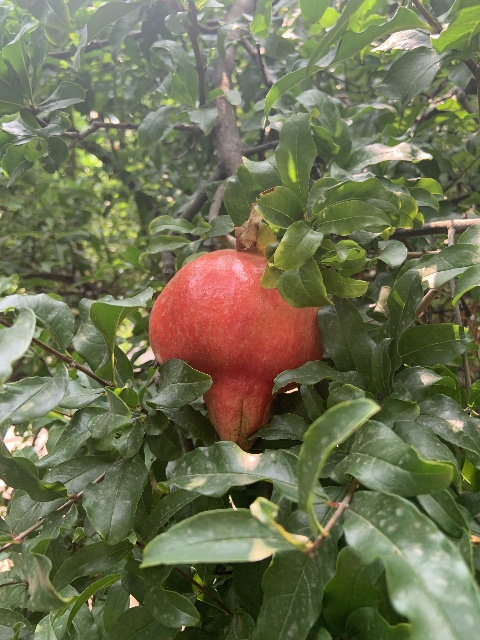ripe: (148, 249, 323, 447)
